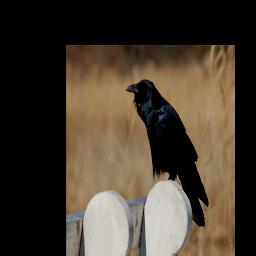Crow: (126, 79, 209, 229)
